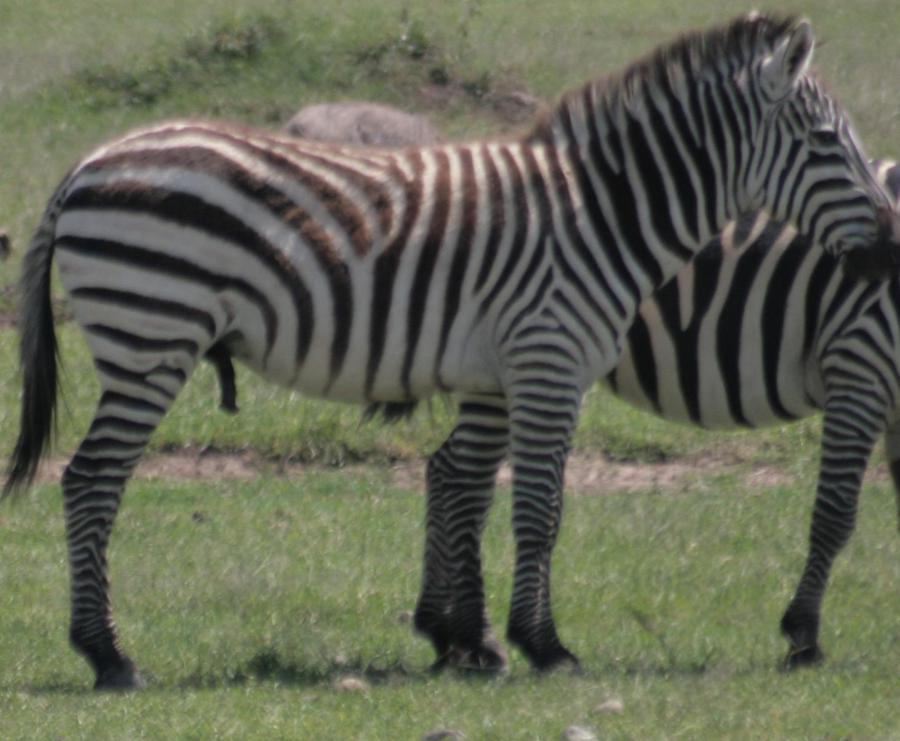zebra_plains: (38, 79, 665, 437)
